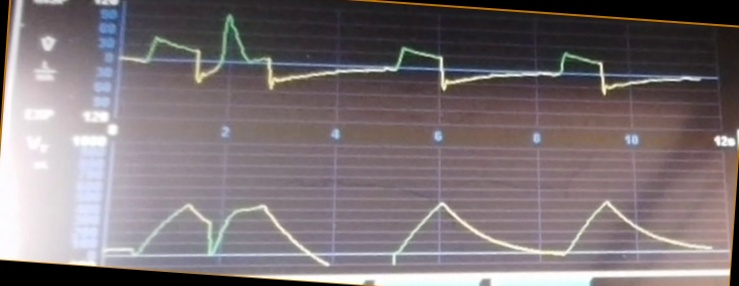Double_Triggering Flow: (128, 10, 680, 122)
Double_Triggering Volume: (112, 181, 696, 264)
